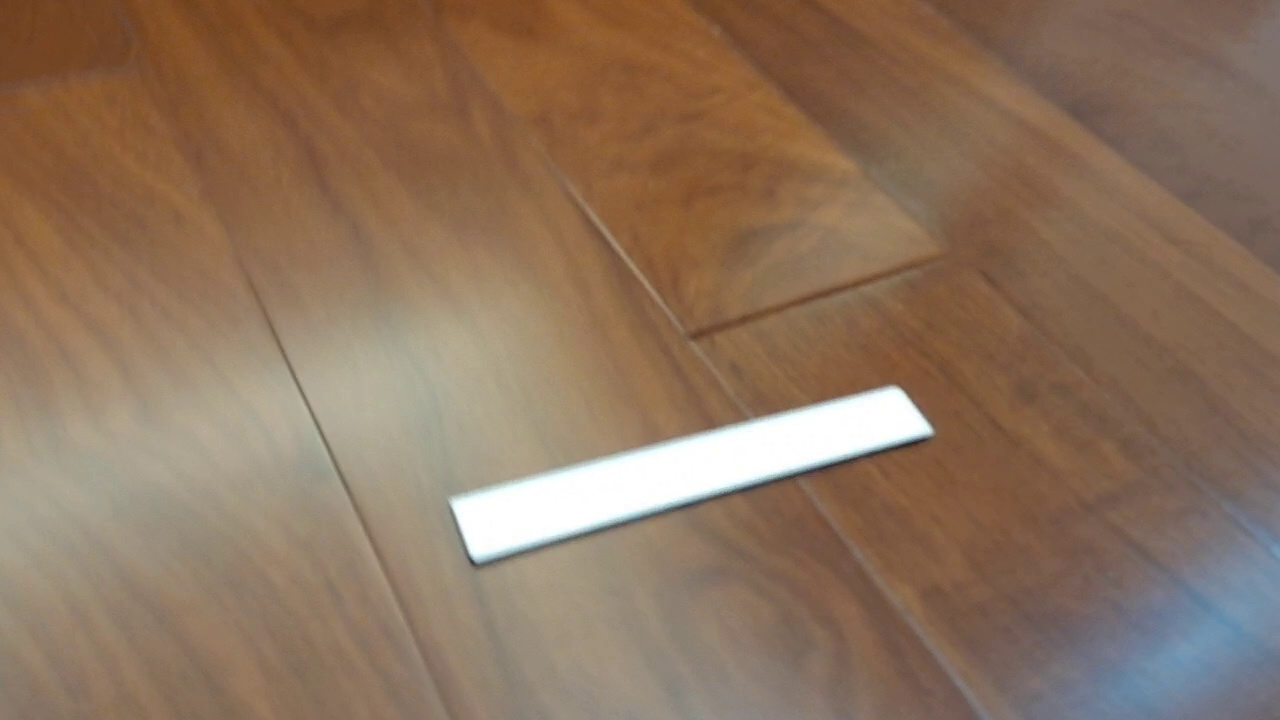ruler: (445, 382, 936, 570)
